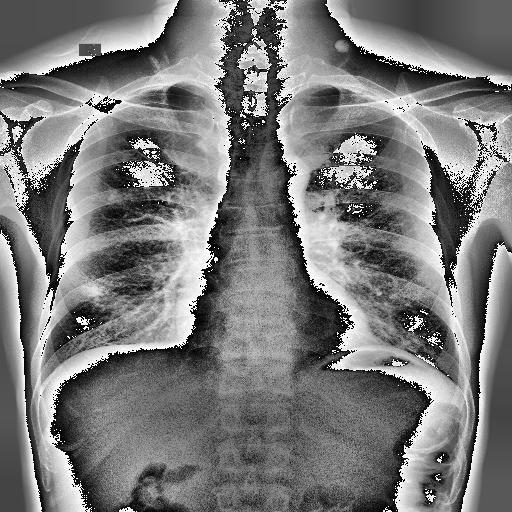11- Pleural thickening: (342, 84, 414, 119), (336, 80, 402, 112), (104, 84, 172, 114), (110, 80, 172, 106), (340, 84, 386, 104), (120, 86, 169, 96)
